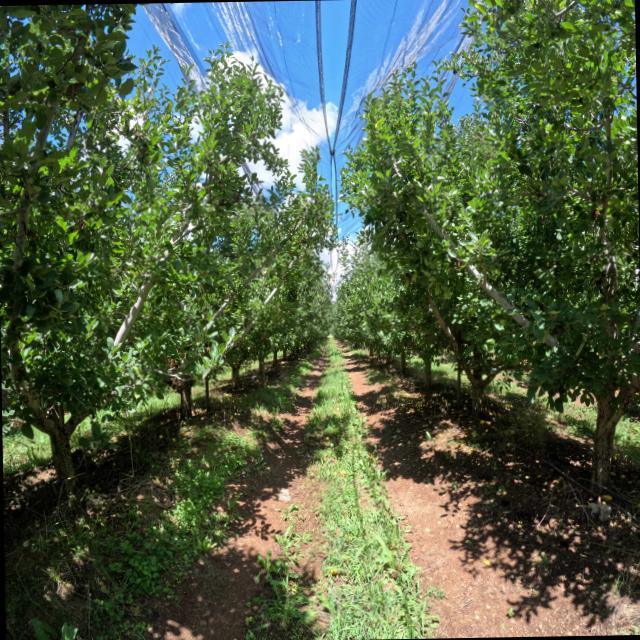-FireBlight-: (172, 378, 180, 394), (168, 358, 178, 368), (206, 346, 210, 351)
